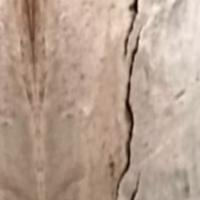crack: (96, 0, 159, 197)
